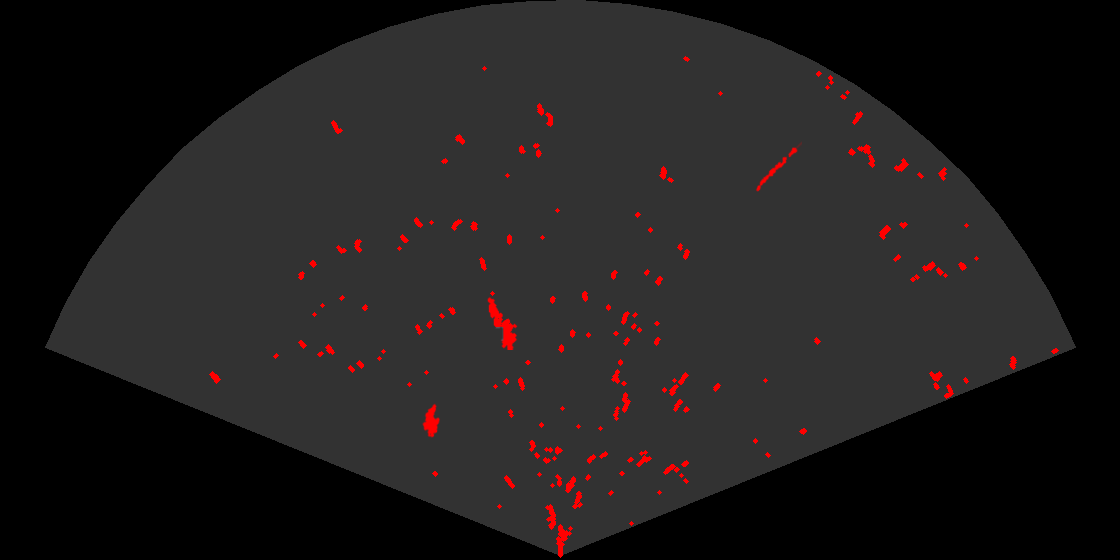AUV: (421, 402, 442, 439)
chain: (754, 140, 802, 193)
frogman: (486, 296, 519, 350)
